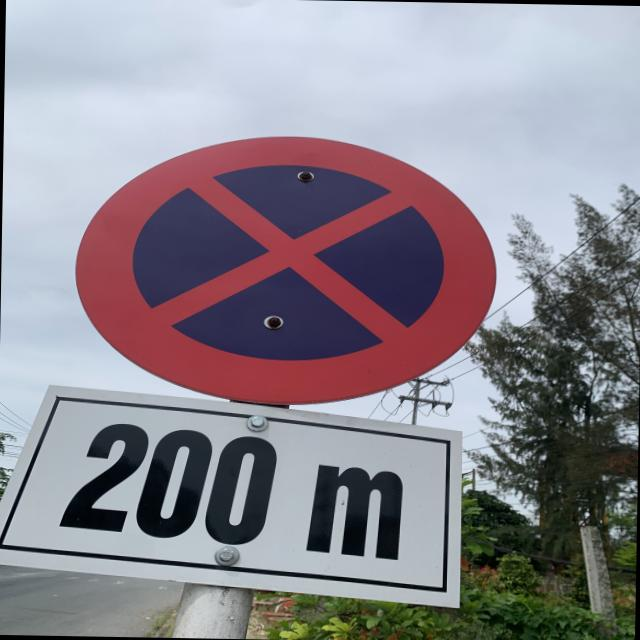Cam_Dung_Va_Dau_Xe: (74, 132, 499, 411)
